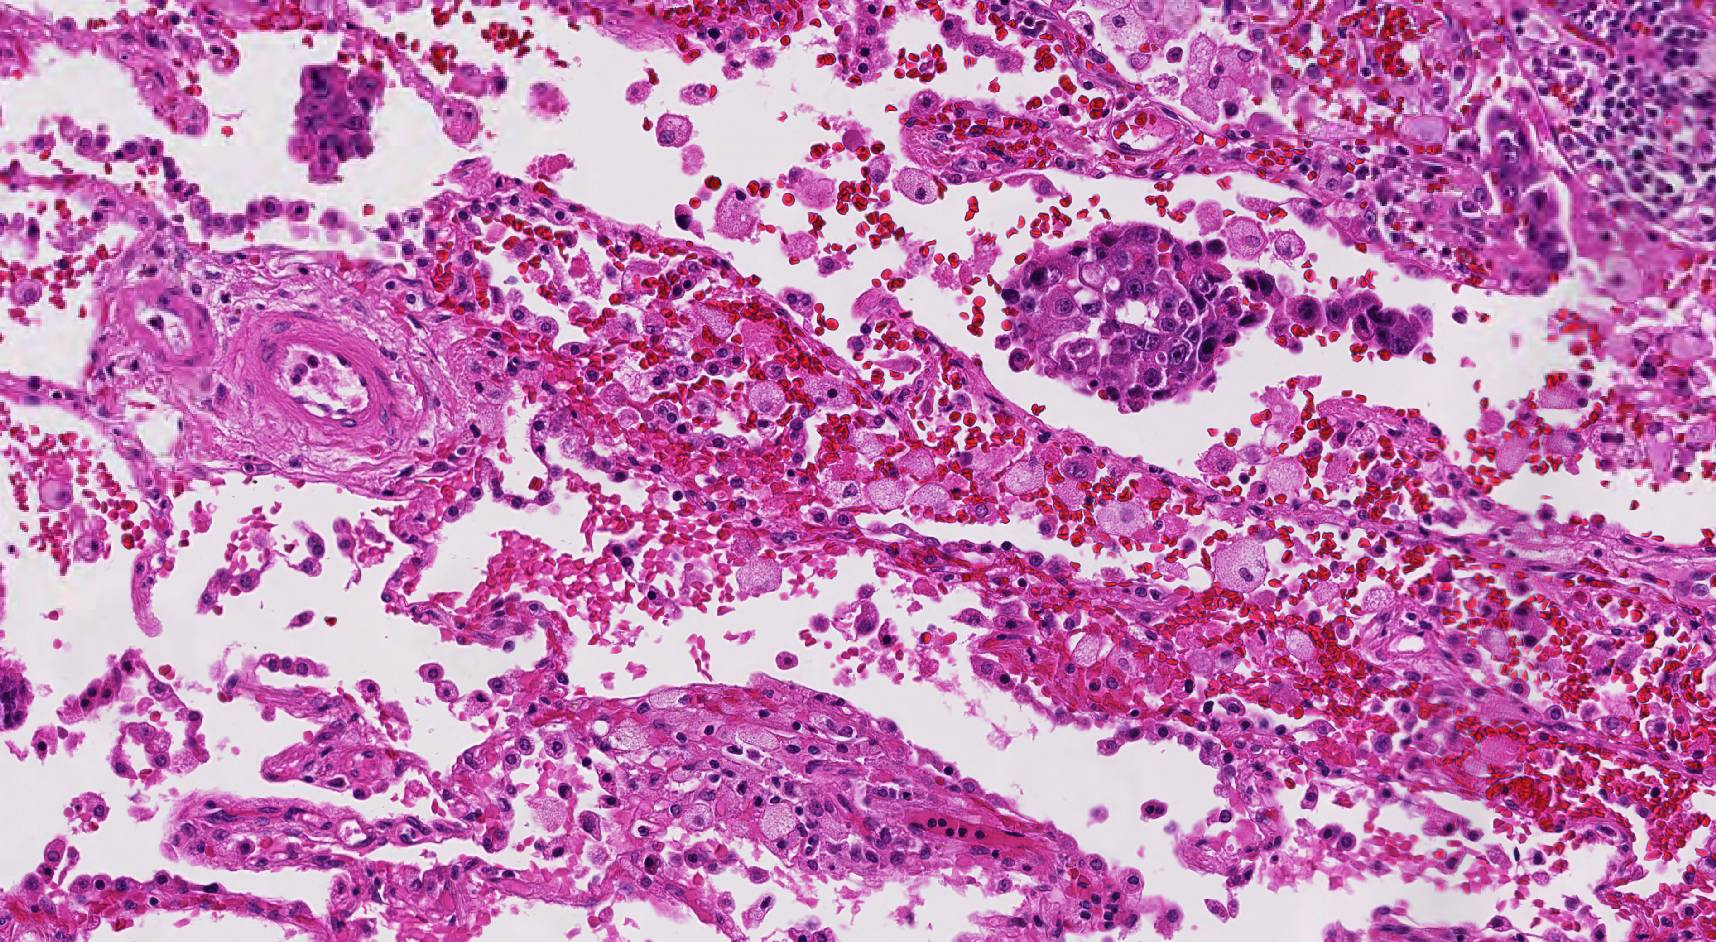stas: (1000, 222, 1238, 413), (1245, 270, 1435, 358), (1485, 103, 1571, 269), (286, 63, 390, 185)
